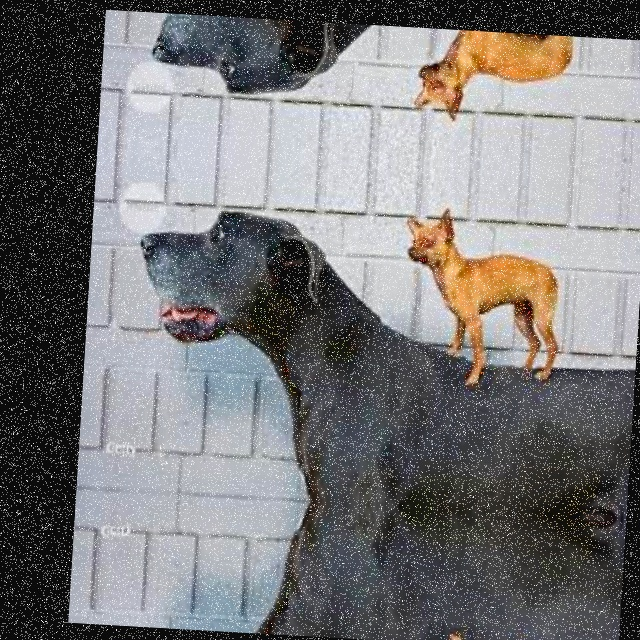dog: (126, 185, 332, 368), (141, 12, 343, 119), (385, 194, 470, 278), (394, 48, 479, 132), (109, 622, 306, 636)
